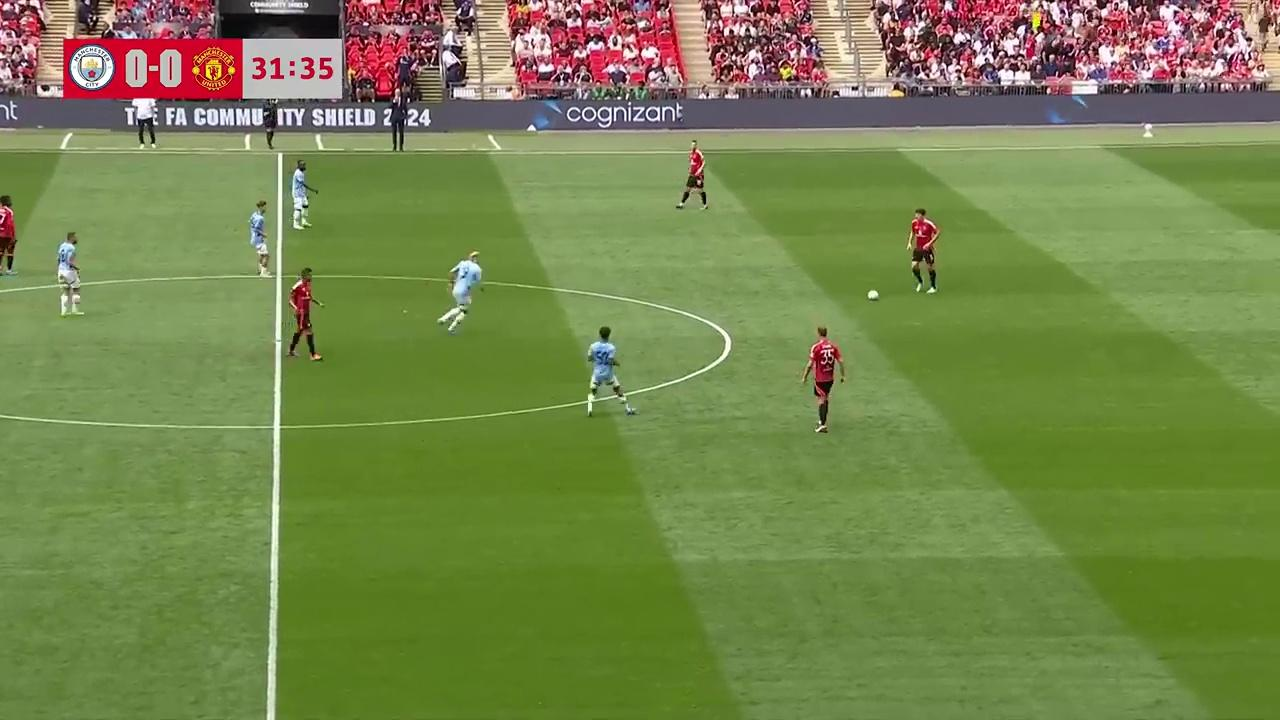ball: (865, 286, 880, 301)
player: (800, 325, 845, 433), (584, 326, 634, 417), (437, 249, 483, 334), (286, 267, 324, 361), (906, 208, 938, 293), (676, 141, 708, 211), (56, 231, 81, 314), (292, 159, 316, 229), (249, 200, 270, 276), (0, 194, 17, 275)
